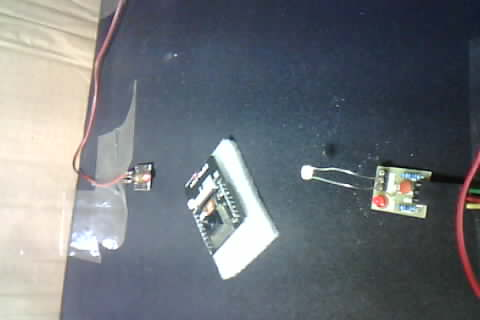esp32: (175, 139, 268, 271)
